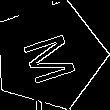M_E: (16, 25, 83, 85)
